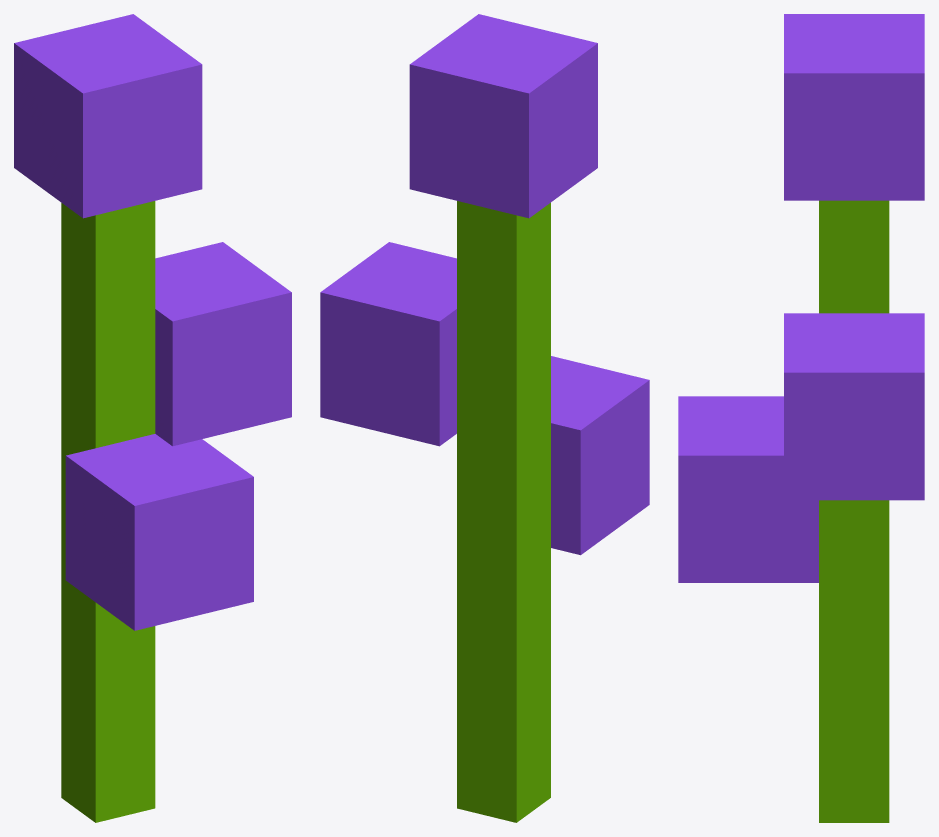
The model's file is Flower_04_Bud.fbx.
The picture shows the model from 3 angles, left to right: view 1: azimuth 30°, elevation 25°; view 2: azimuth 150°, elevation 25°; view 3: azimuth 270°, elevation 25°; orthographic projection. The views are drawn at different scales.
Visible parts, largest first — view 1: Flower_04_Bud; view 2: Flower_04_Bud; view 3: Flower_04_Bud.
Part boxes in pixels (x1,y1,x2,y2): Flower_04_Bud: (14, 14, 291, 822); Flower_04_Bud: (320, 14, 649, 822); Flower_04_Bud: (678, 14, 924, 822).
Size of the model in its own units: 7 by 24 by 7.
